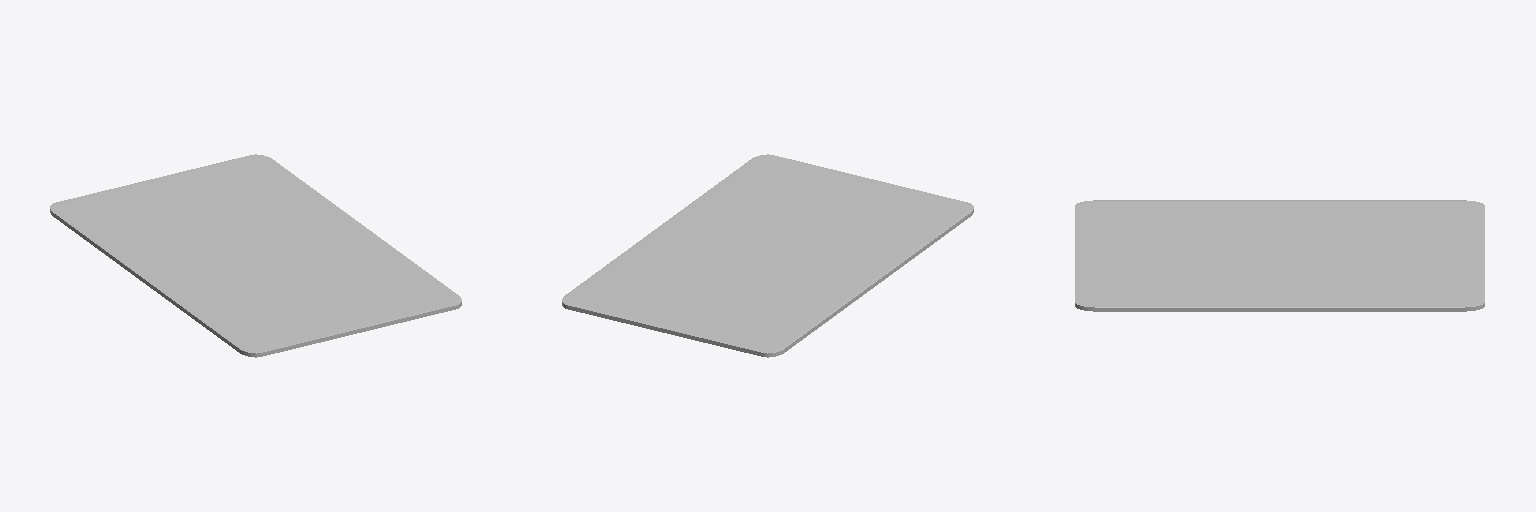
Rendered from uno card.obj.
The picture shows the model from 3 angles: view 1: azimuth 30°, elevation 25°; view 2: azimuth 150°, elevation 25°; view 3: azimuth 270°, elevation 25°; orthographic projection.
Parts seen in each view (by area): view 1: Cube; view 2: Cube; view 3: Cube.
Part boxes in pixels (left/top/right/bottom): Cube: left=50, top=154, right=461, bottom=357; Cube: left=562, top=154, right=973, bottom=357; Cube: left=1075, top=200, right=1484, bottom=311.
Bounding box in the file's own units: 0.9458 × 0.0185 × 1.53.